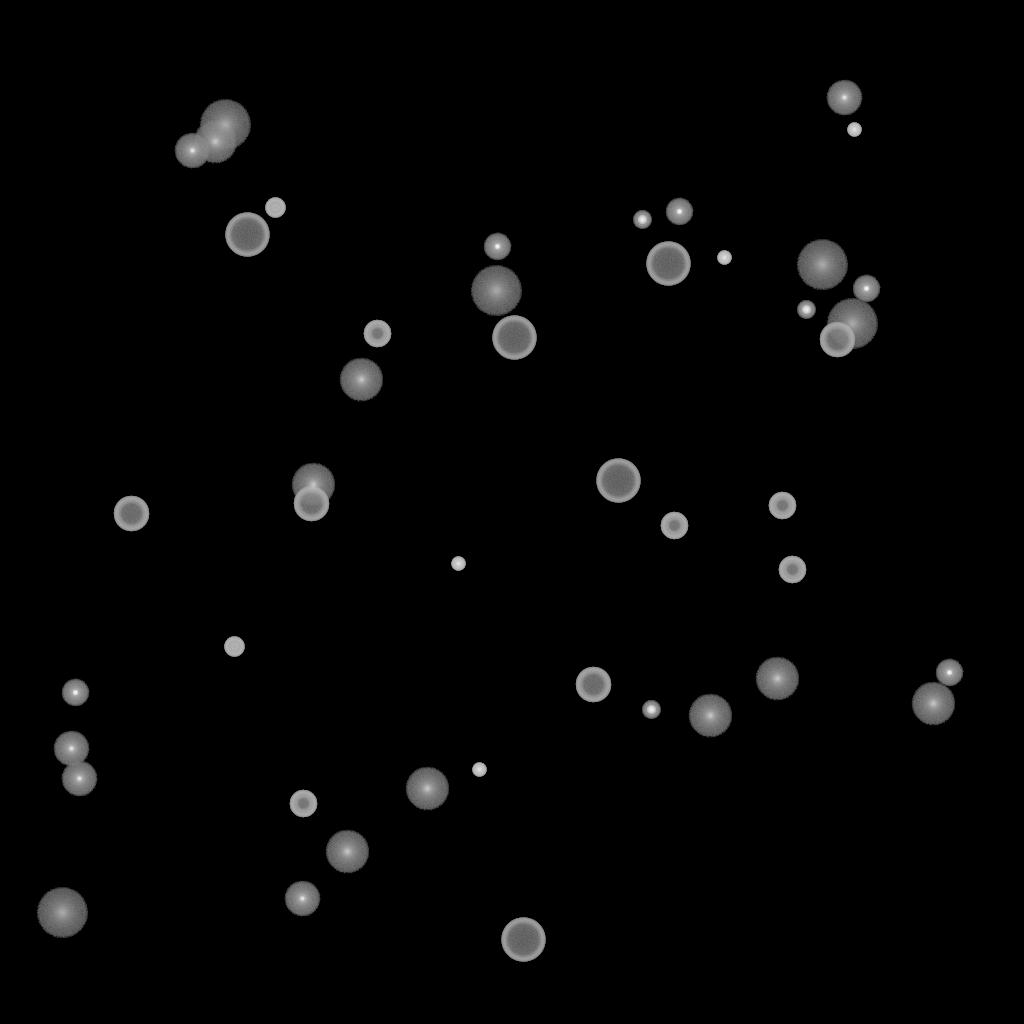depth:-10: (665, 198, 693, 226), (483, 233, 511, 261), (852, 275, 880, 303), (935, 659, 963, 687), (61, 679, 89, 707)
depth:-20: (642, 701, 660, 719), (797, 301, 815, 319), (633, 211, 651, 229)
depth:-30: (717, 251, 731, 265), (451, 557, 465, 571), (847, 123, 861, 137), (472, 763, 486, 777)
depth:-40: (224, 637, 244, 657), (265, 198, 285, 218)
depth:-50: (768, 492, 796, 520), (363, 320, 391, 348), (289, 790, 317, 818), (660, 512, 688, 540), (778, 556, 806, 584)
depth:-60: (819, 322, 855, 358), (113, 496, 149, 532), (293, 486, 329, 522), (575, 667, 611, 703)
depth:-70: (596, 459, 640, 503), (492, 316, 536, 360), (225, 213, 269, 257), (501, 918, 545, 962), (646, 242, 690, 286)
depth:0: (284, 881, 320, 917), (61, 761, 97, 797), (826, 80, 862, 116), (53, 731, 89, 767), (174, 133, 210, 169)
depth:10: (339, 358, 383, 402), (688, 694, 732, 738), (911, 682, 955, 726), (325, 830, 369, 874), (755, 657, 799, 701), (405, 767, 449, 811), (193, 120, 237, 164), (291, 463, 335, 507)
depth:20: (470, 266, 522, 316), (796, 240, 848, 290), (826, 299, 878, 349), (199, 100, 251, 150), (36, 888, 88, 938)
